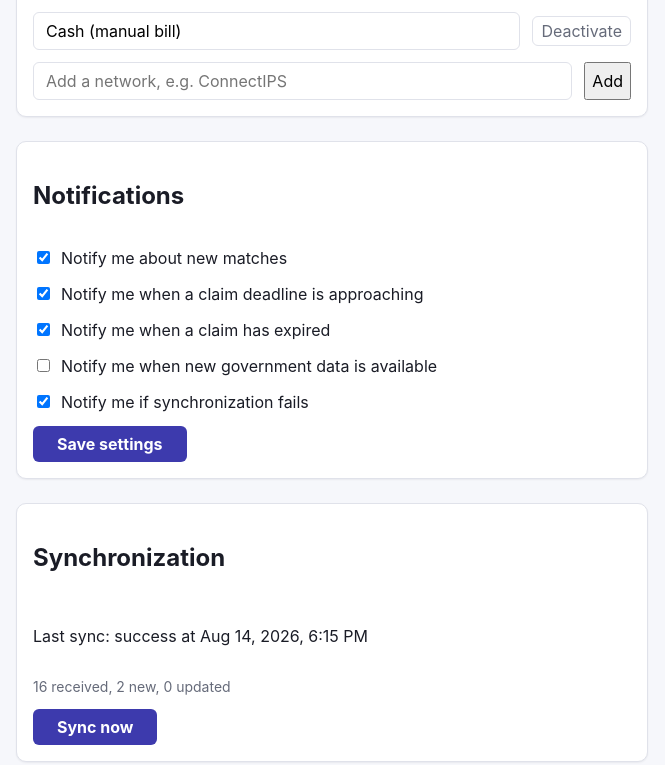
Test: Settings page › saves notification preference changes
(page scrolled)
Click the checkbox labelled "Notify me when new government data is available". click: (44, 366)
box: [37,359,50,372]
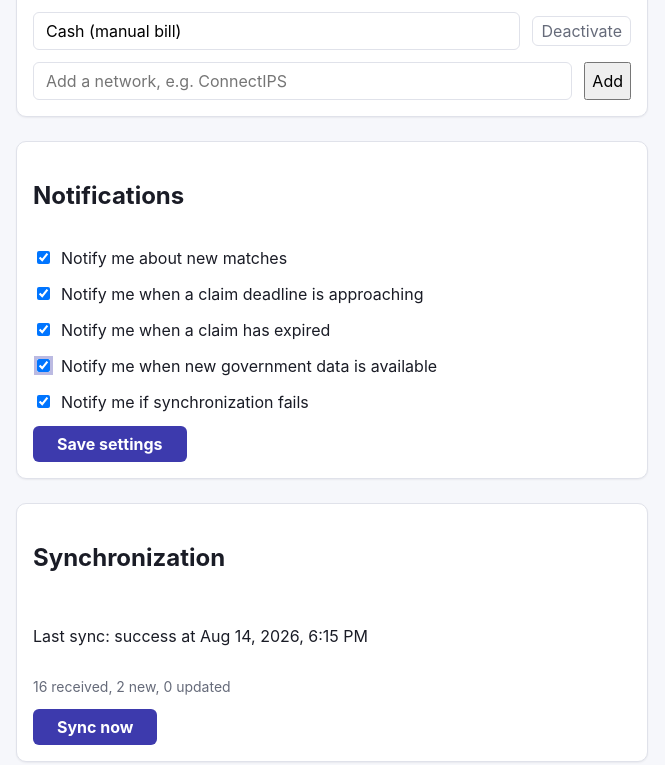
Click the button "Save settings". click: (110, 444)
box: [33,426,186,462]
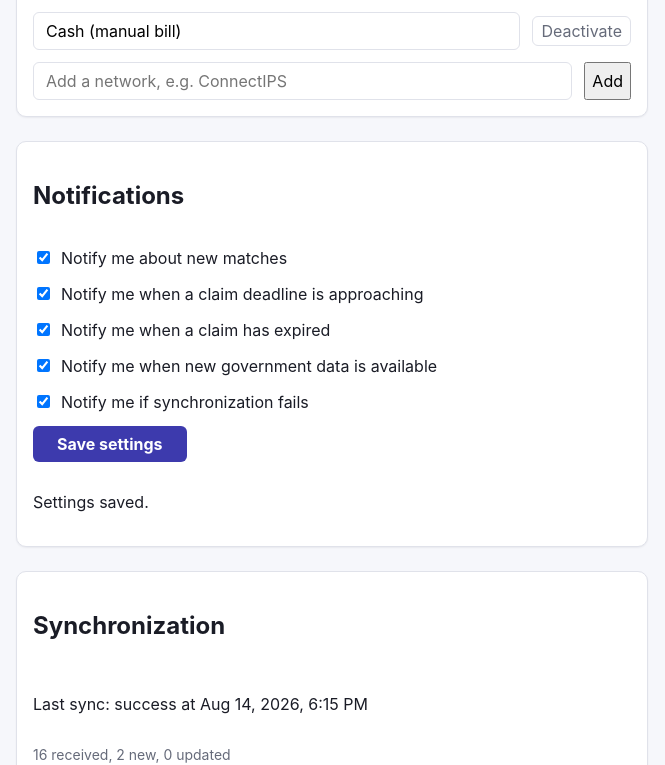
Expected: the text "Settings saved." is shown, [33,492,149,512]
